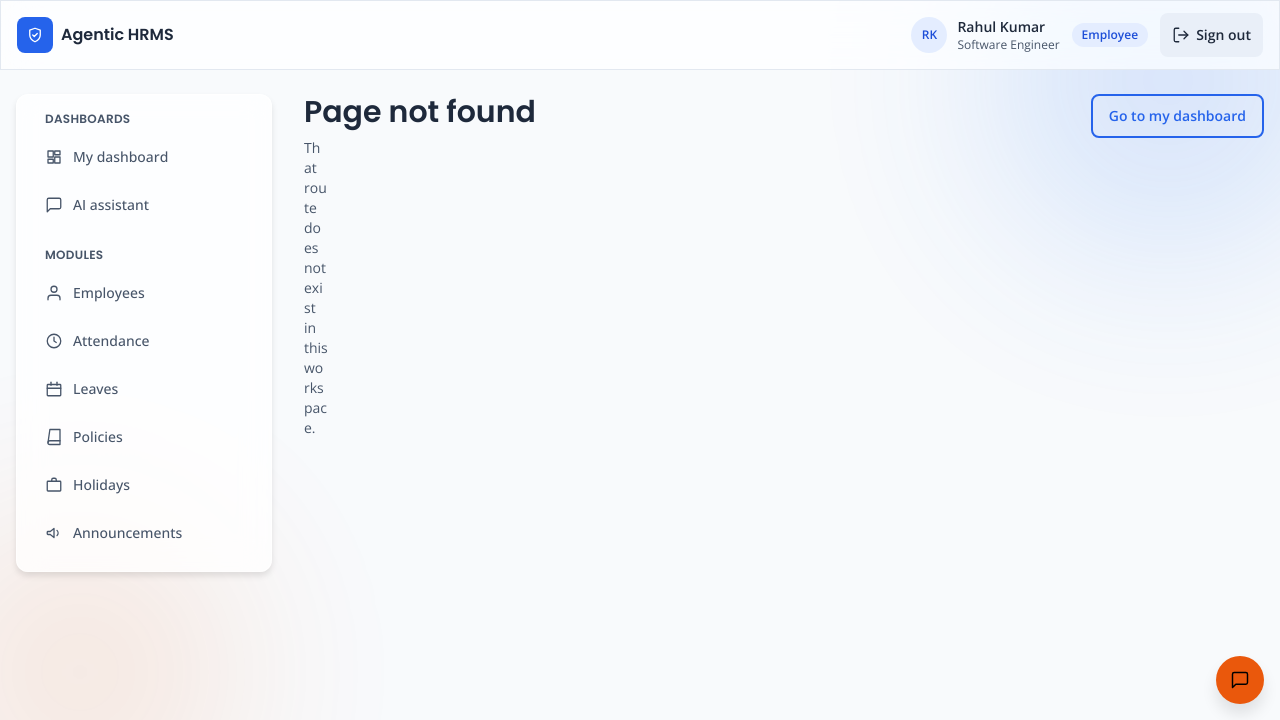
Scenario: App routing › shows a not-found page with a way back for an unknown route
expect the heading "Page not found" is shown: met, box [304,94,536,130]
Click the link "Go to my dashboard". click: point(1177, 116)
box: [1091,94,1264,138]
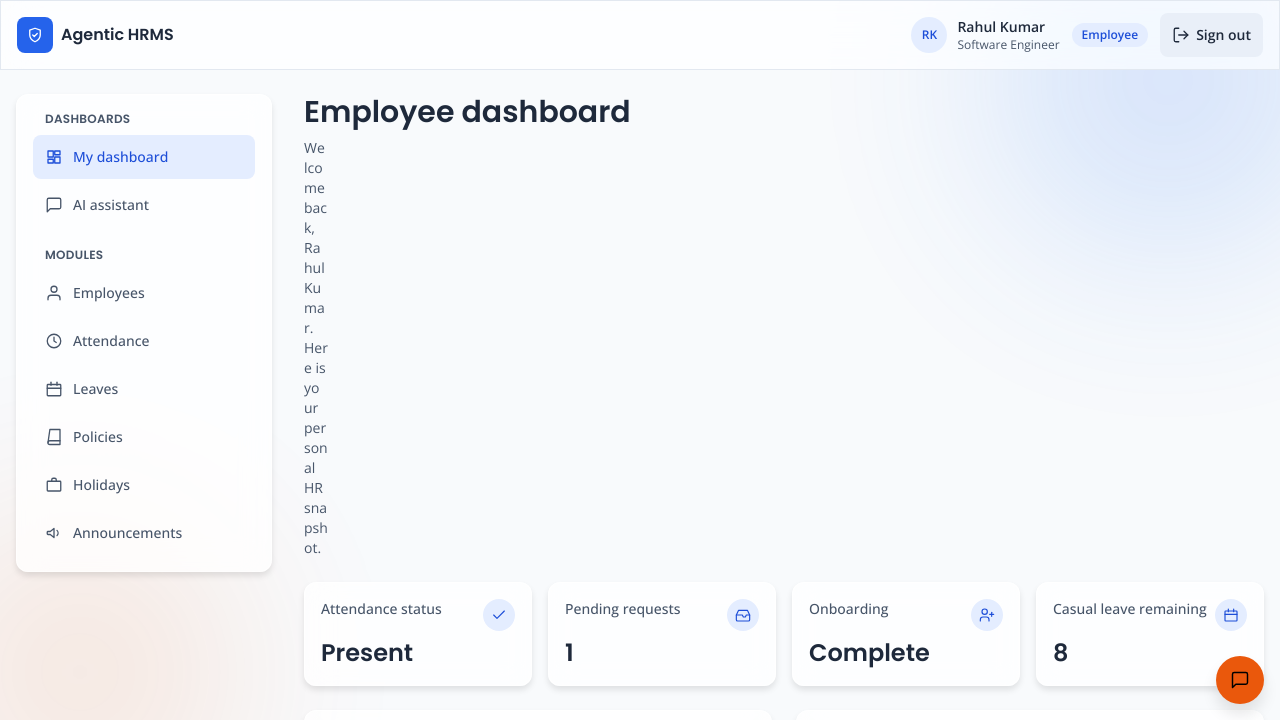
expect the heading "Employee dashboard" is shown: met, box [304,94,631,130]
